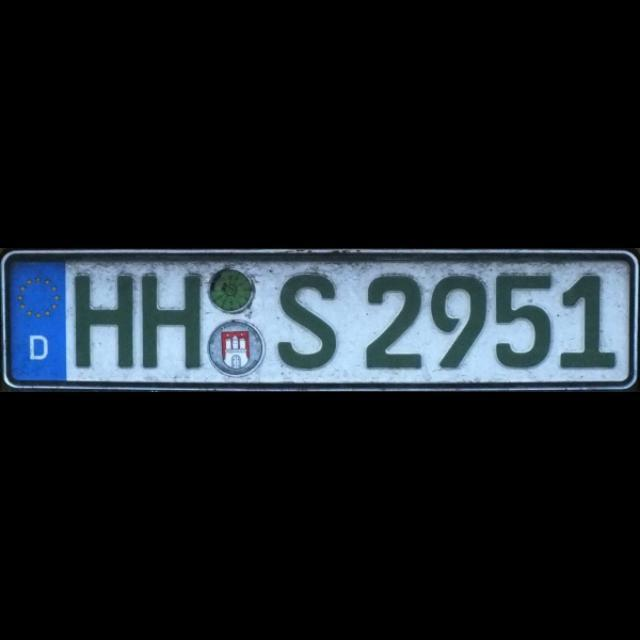license-plates: (1, 250, 640, 390)
